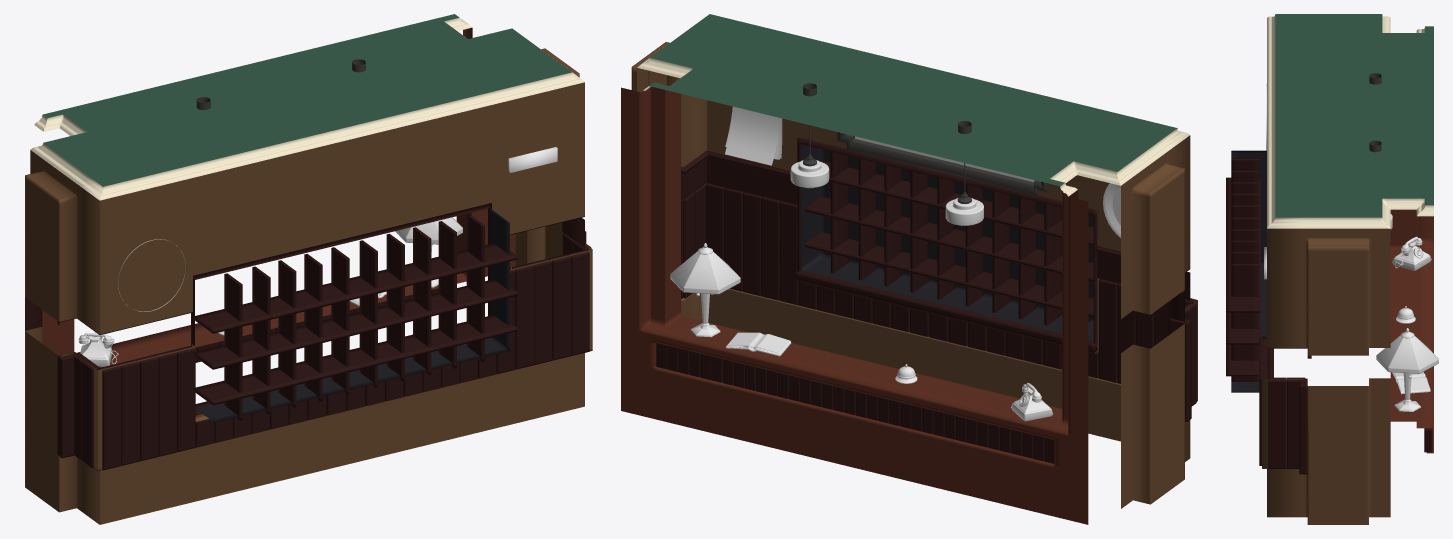
The model's file is front_desk_mk2.fbx.
The picture shows the model from 3 angles, left to right: view 1: azimuth 30°, elevation 25°; view 2: azimuth 150°, elevation 25°; view 3: azimuth 270°, elevation 25°; orthographic projection. The views are drawn at different scales.
Visible parts, largest first — view 1: Cube.075, Cube.081, Cube.088, Cube.087, Cube.089, Cube.090, Cube.099, Cube.092, Cube.078, Cube.096, Cube.093; view 2: Cube.099, Cube.075, Cube.081, Cube.087, Cube.088, Cube.090, Cube.092, Cube.080, Cube.089, Cube.085, Cube.093, Cube.091 (+5 smaller); view 3: Cube.081, Cube.075, Cube.088, Cube.099, Cube.087, Cube.089, Cube.090, Cube.093, Cube.078, Cube.084, Cube.083, Cube.077.
Boxes of the visible parts, left/top/right/bottom form: Cube.075: left=25, top=48, right=592, bottom=524; Cube.081: left=43, top=14, right=571, bottom=186; Cube.088: left=193, top=214, right=517, bottom=420; Cube.087: left=25, top=216, right=591, bottom=470; Cube.089: left=30, top=17, right=584, bottom=200; Cube.090: left=195, top=208, right=509, bottom=422; Cube.099: left=42, top=27, right=515, bottom=367; Cube.092: left=191, top=203, right=491, bottom=415; Cube.078: left=78, top=332, right=118, bottom=366; Cube.096: left=508, top=147, right=557, bottom=172; Cube.093: left=395, top=217, right=462, bottom=244; Cube.099: left=621, top=86, right=1088, bottom=524; Cube.075: left=631, top=42, right=1197, bottom=508; Cube.081: left=649, top=14, right=1177, bottom=186; Cube.087: left=656, top=150, right=1196, bottom=463; Cube.088: left=804, top=151, right=1093, bottom=325; Cube.090: left=801, top=144, right=1093, bottom=341; Cube.092: left=795, top=137, right=1097, bottom=352; Cube.080: left=837, top=132, right=1047, bottom=196; Cube.089: left=637, top=58, right=1189, bottom=196; Cube.085: left=725, top=106, right=782, bottom=165; Cube.093: left=670, top=251, right=740, bottom=294; Cube.091: left=790, top=160, right=983, bottom=225; Cube.081: left=1275, top=14, right=1433, bottom=217; Cube.075: left=1262, top=228, right=1390, bottom=524; Cube.088: left=1226, top=158, right=1260, bottom=381; Cube.099: left=1390, top=209, right=1433, bottom=453; Cube.087: left=1259, top=336, right=1432, bottom=474; Cube.089: left=1267, top=15, right=1433, bottom=228; Cube.090: left=1231, top=150, right=1266, bottom=392; Cube.093: left=1376, top=335, right=1438, bottom=373; Cube.078: left=1392, top=236, right=1431, bottom=270; Cube.084: left=1394, top=328, right=1420, bottom=411; Cube.083: left=1392, top=372, right=1430, bottom=393; Cube.077: left=1369, top=73, right=1381, bottom=152.
Bounding box in the file's own units: 526 × 326 × 208.
